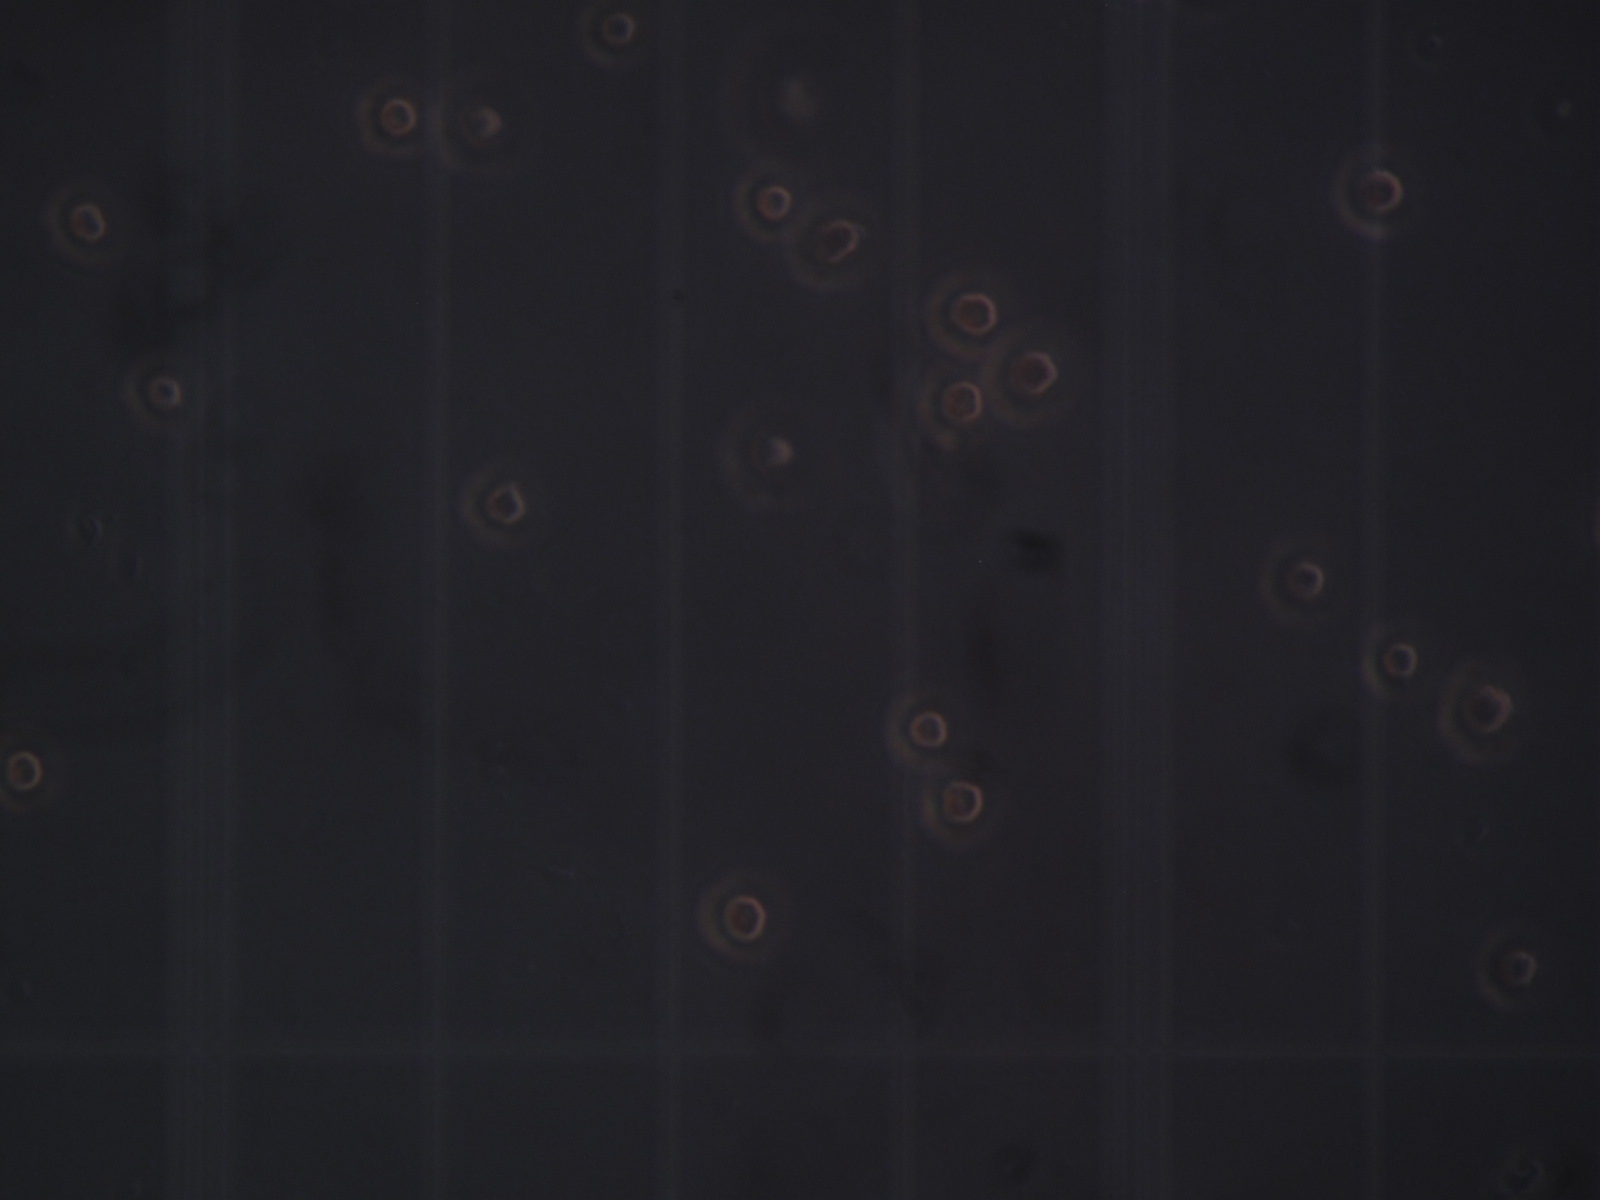hemo: (1437, 666, 1513, 764), (722, 413, 794, 511), (988, 337, 1058, 429), (435, 82, 503, 175), (787, 204, 859, 290), (1330, 156, 1403, 238), (927, 275, 997, 358), (1260, 539, 1325, 625), (697, 879, 765, 961), (461, 468, 527, 547), (918, 369, 981, 449), (1477, 930, 1537, 1011), (47, 185, 107, 265), (884, 695, 947, 770), (921, 771, 983, 848), (354, 84, 418, 158), (733, 168, 794, 243), (123, 358, 183, 432), (1361, 624, 1419, 700), (578, 3, 636, 67), (1, 736, 43, 814)
